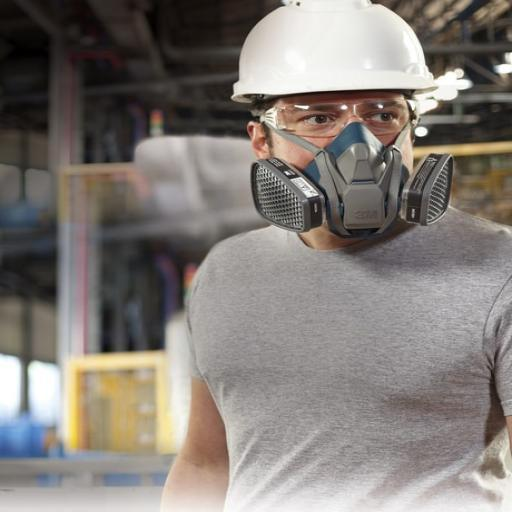mask: (305, 119, 414, 244)
